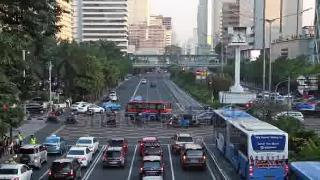mobil: (180, 147, 210, 173), (172, 133, 196, 155), (104, 149, 126, 171)
